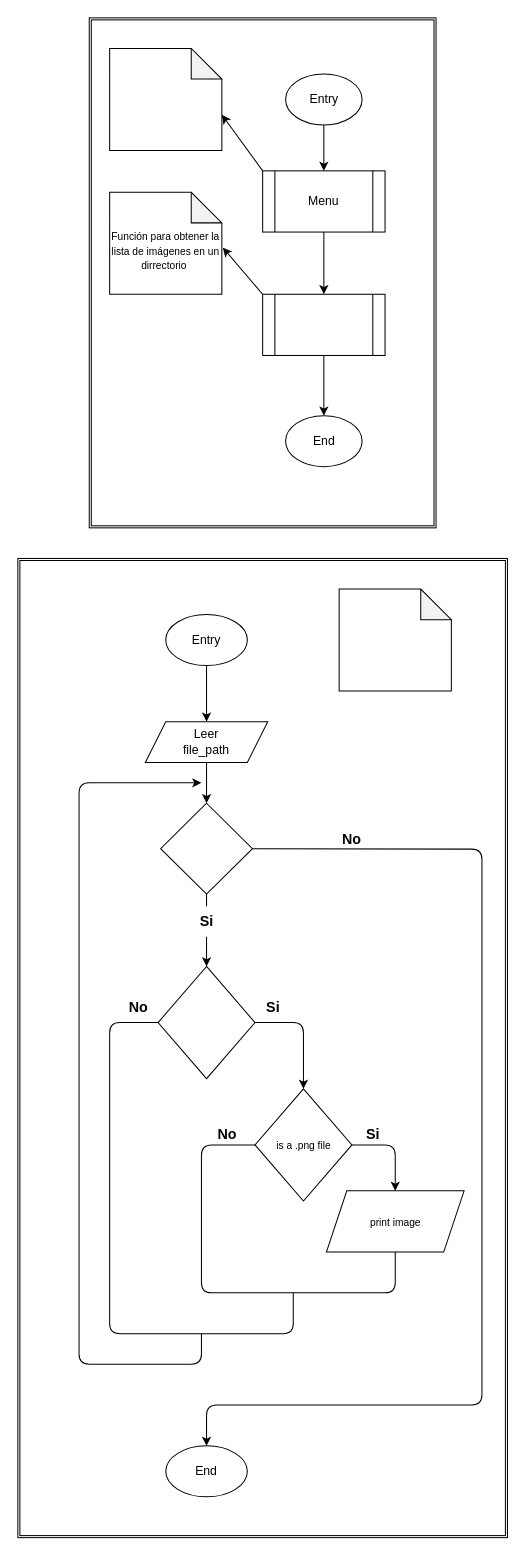
The diagram is 525 pixels wide and 1556 high, and some of its shapes have lost their labels. Each missing label, with the box of its shape:
file_path in os.listdir: (160, 802, 252, 894)
Función implementada en el diagrama general: (109, 47, 222, 150)
Función: read_files(): (338, 588, 451, 691)
Is image?: (157, 965, 255, 1079)
read_files(): (262, 293, 385, 355)
